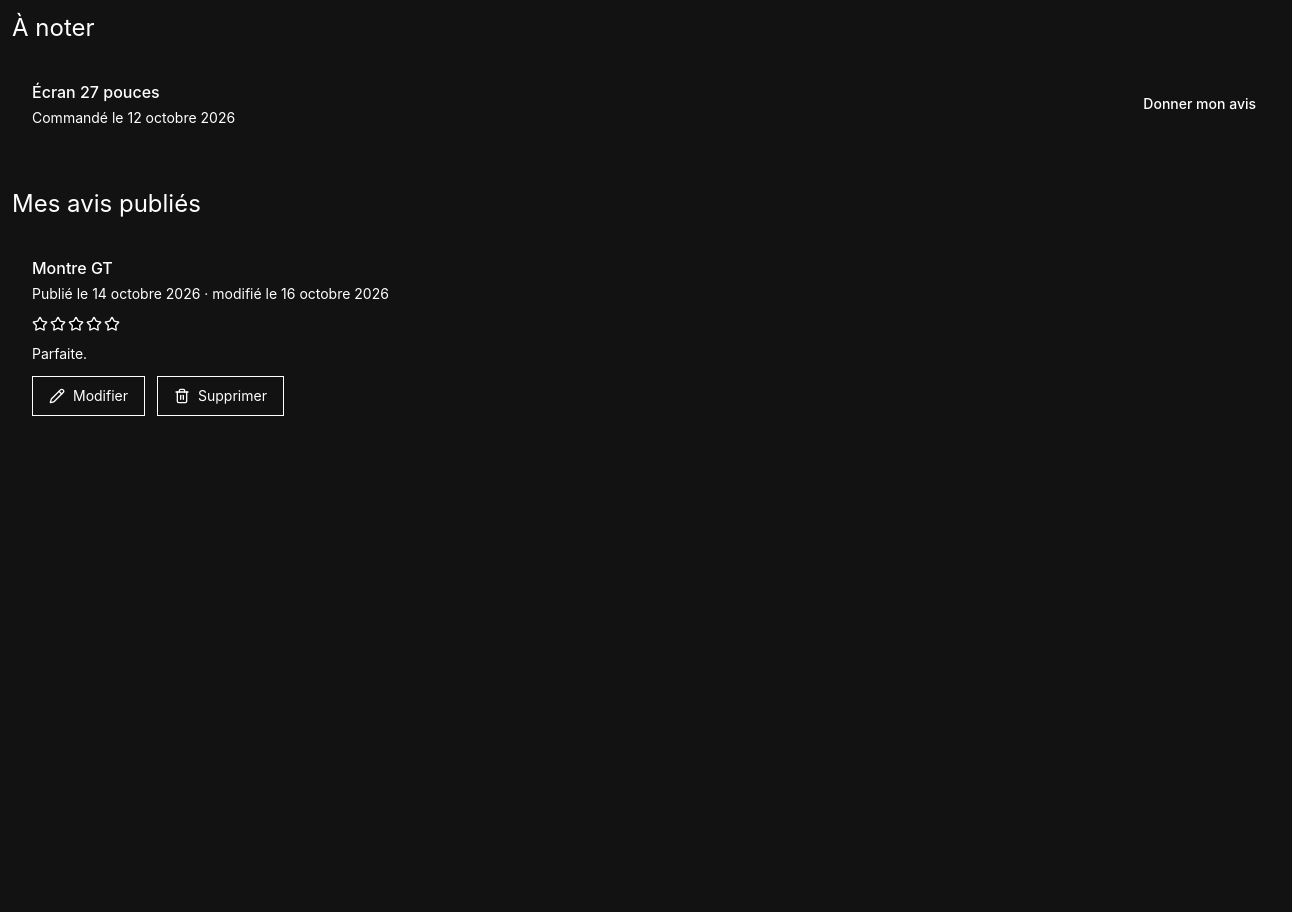
Test case: review form › counts the characters of the comment
Click the button with aria-label "Donner ton avis sur Écran 27 pouces": {"x": 1200, "y": 104} [1127,86,1272,122]
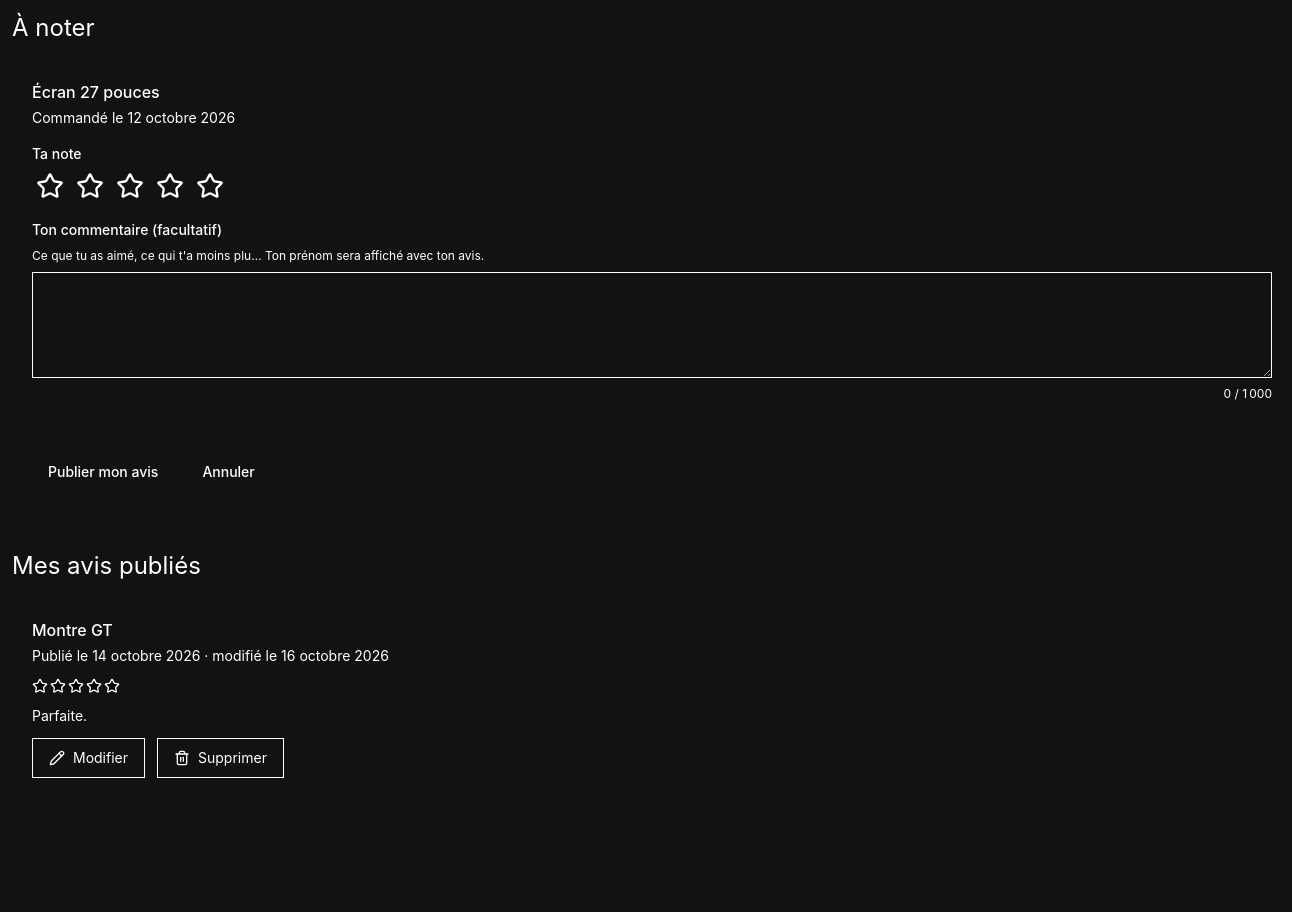
Click the radio button named "4 étoiles": {"x": 170, "y": 186} [152,168,188,204]
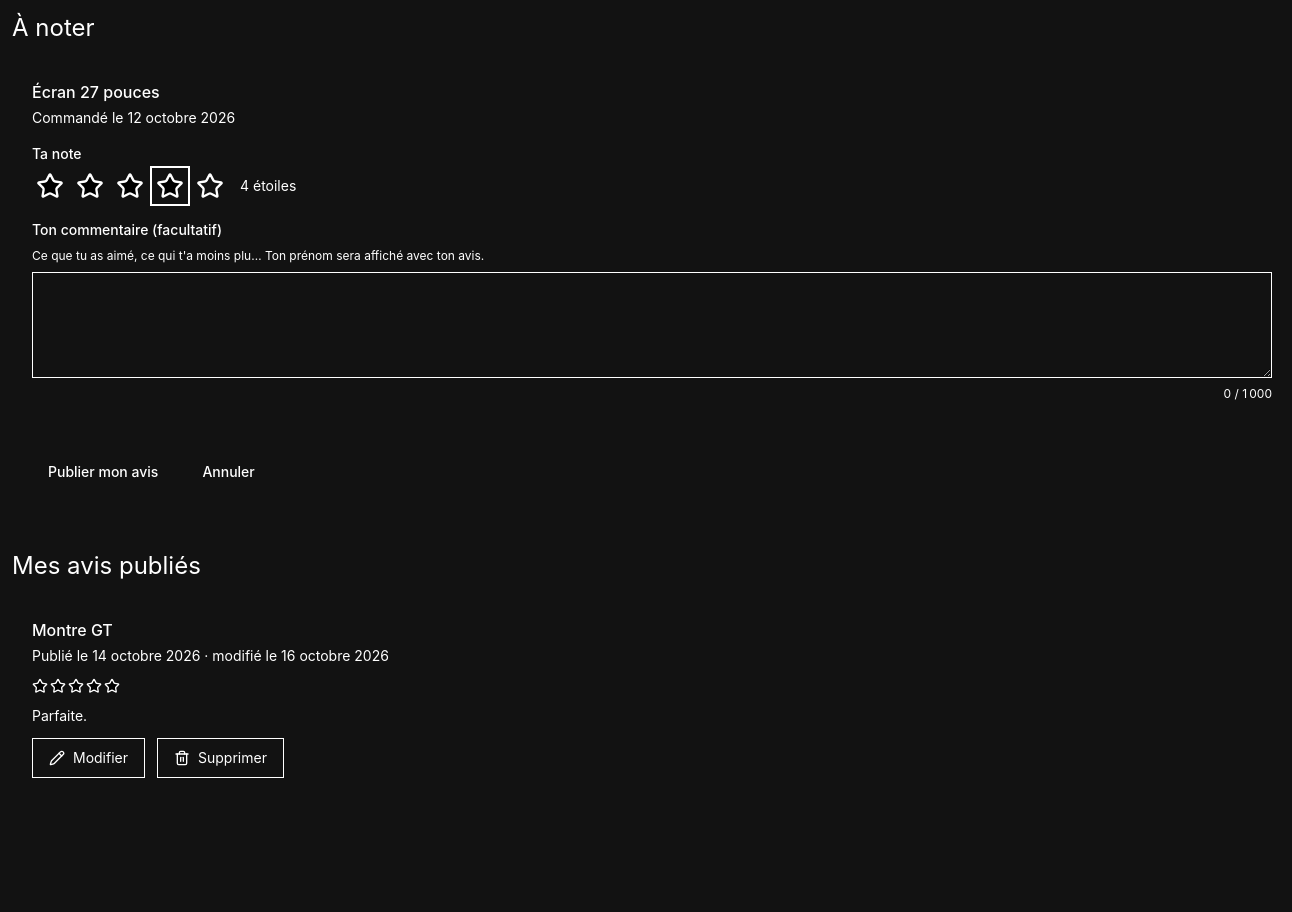
In the text box labelled "Ton commentaire (facultatif)": {"x": 652, "y": 325} [32,272,1272,378], type "Bien"
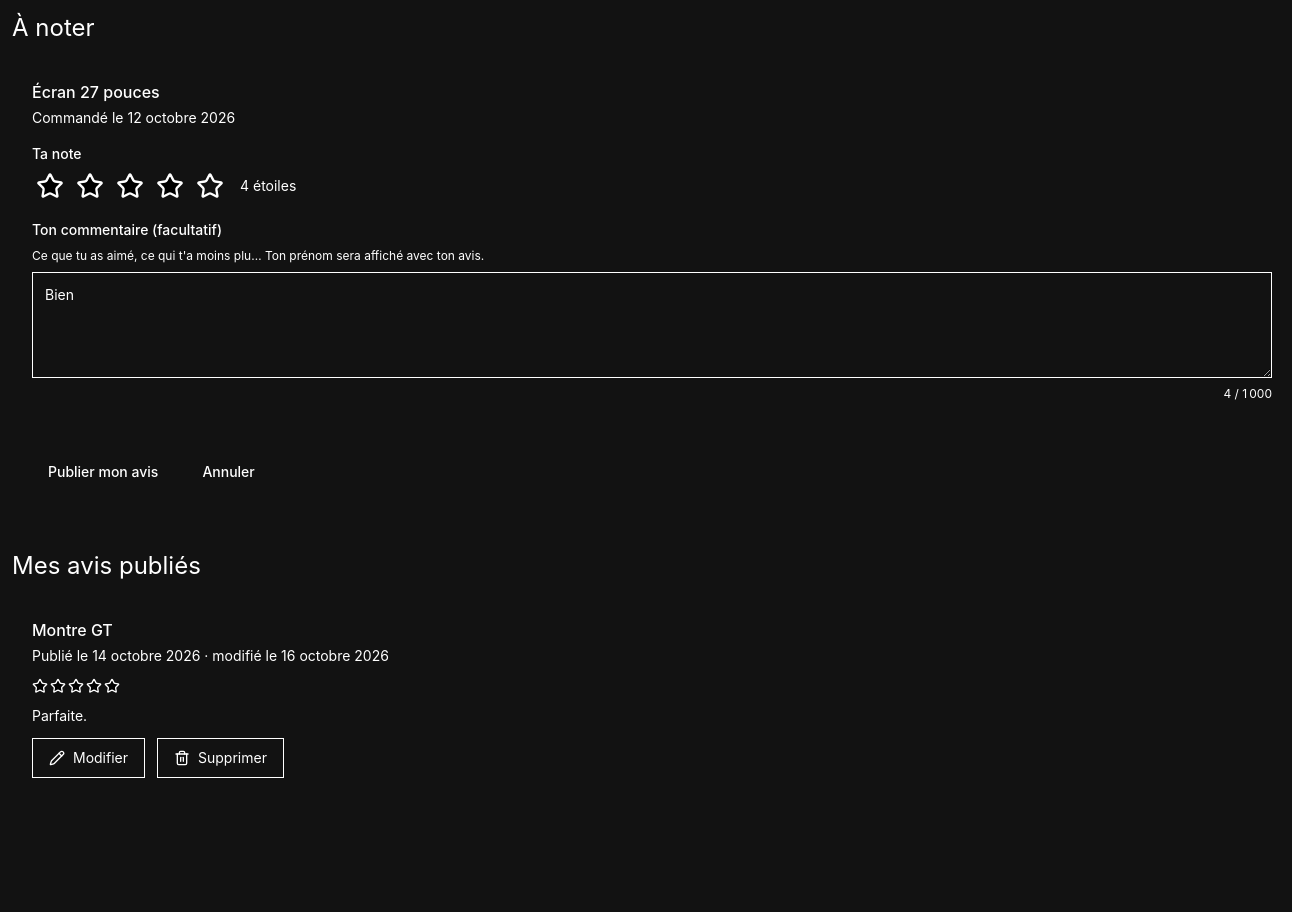
Result: the text "4 / 1 000" is shown at [1223,386,1272,402]
